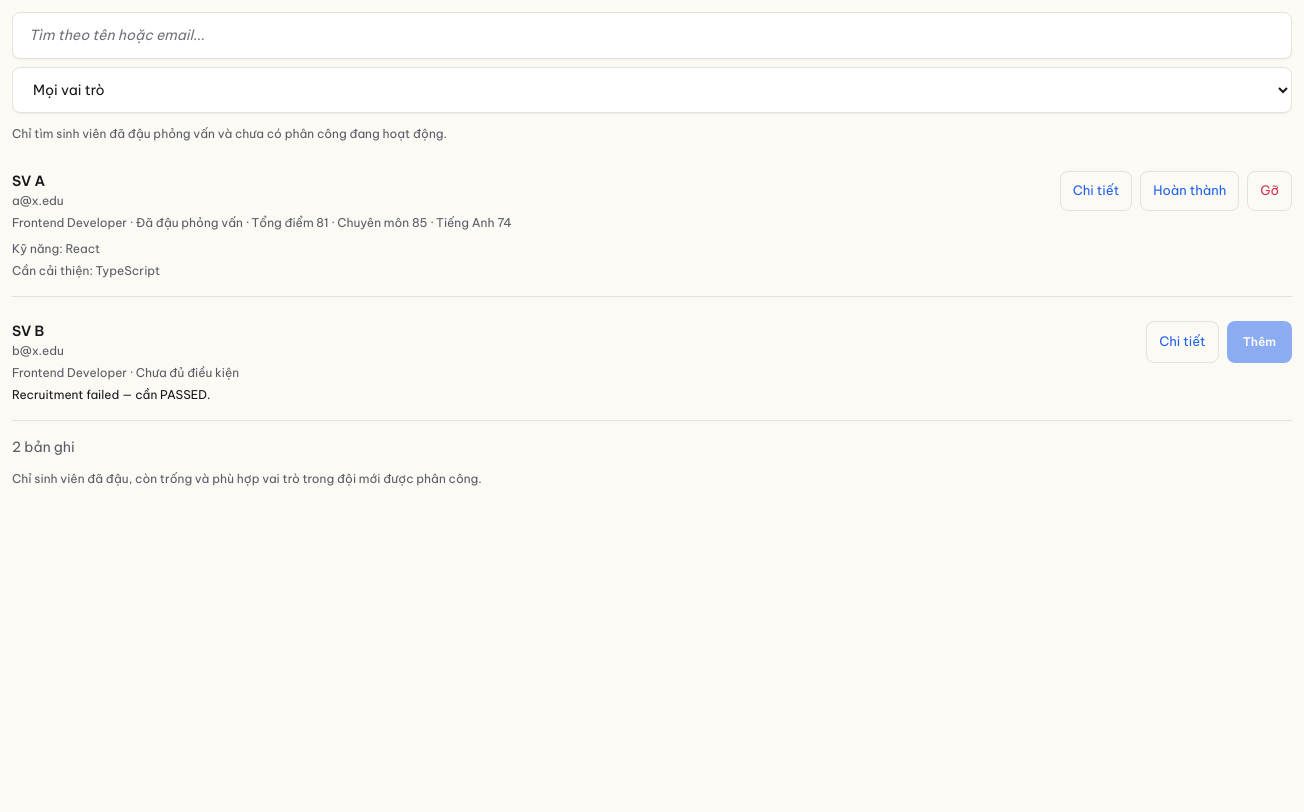
MemberSelector (M4) › reports a failed removal preflight and leaves the assignment intact
This screenshot has width=1304, height=812.
Click the button "Gỡ" at (1270, 191), box x1=1247 y1=171 x2=1292 y2=211
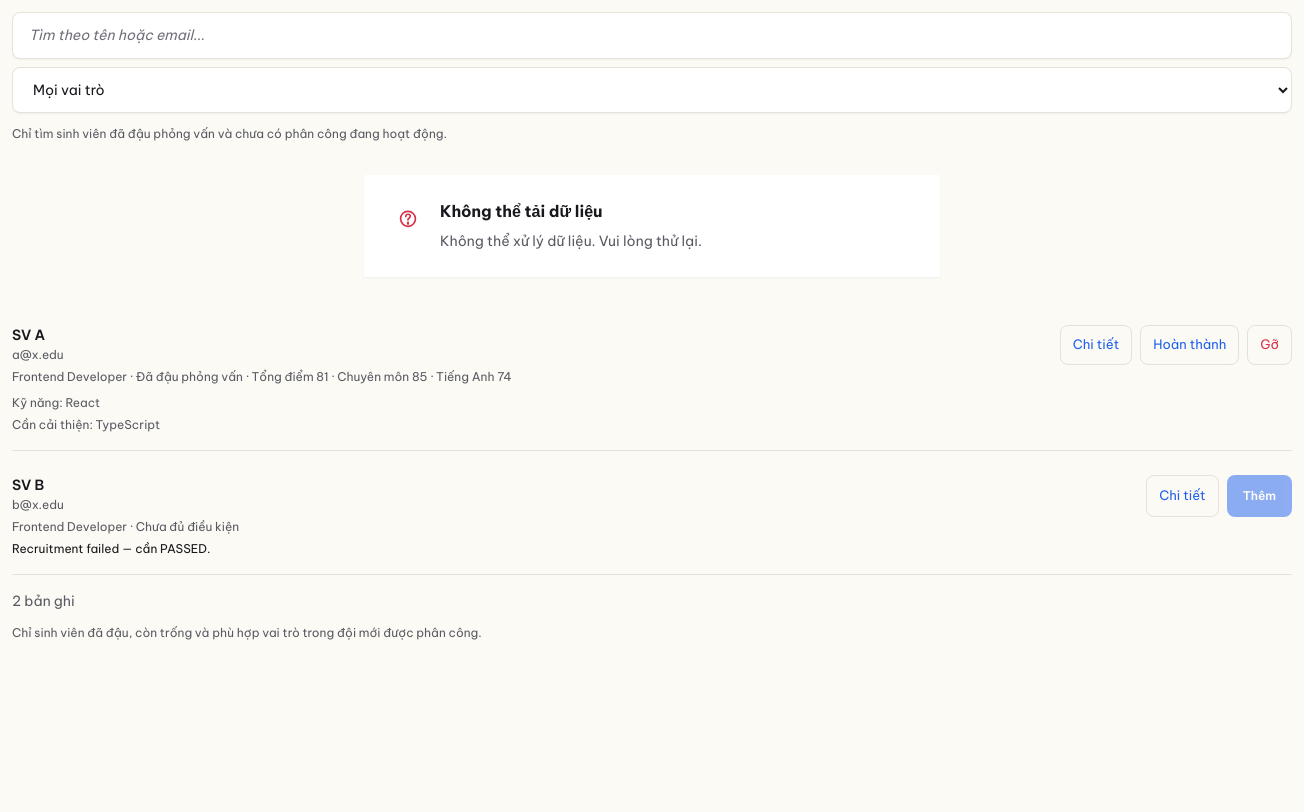
Expected: the button "Gỡ" is enabled, x1=1247 y1=325 x2=1292 y2=365
Result: the message "Không thể tải dữ liệu Không thể xử lý dữ liệu. Vui lòng thử lại." is shown at x1=364 y1=175 x2=940 y2=277
